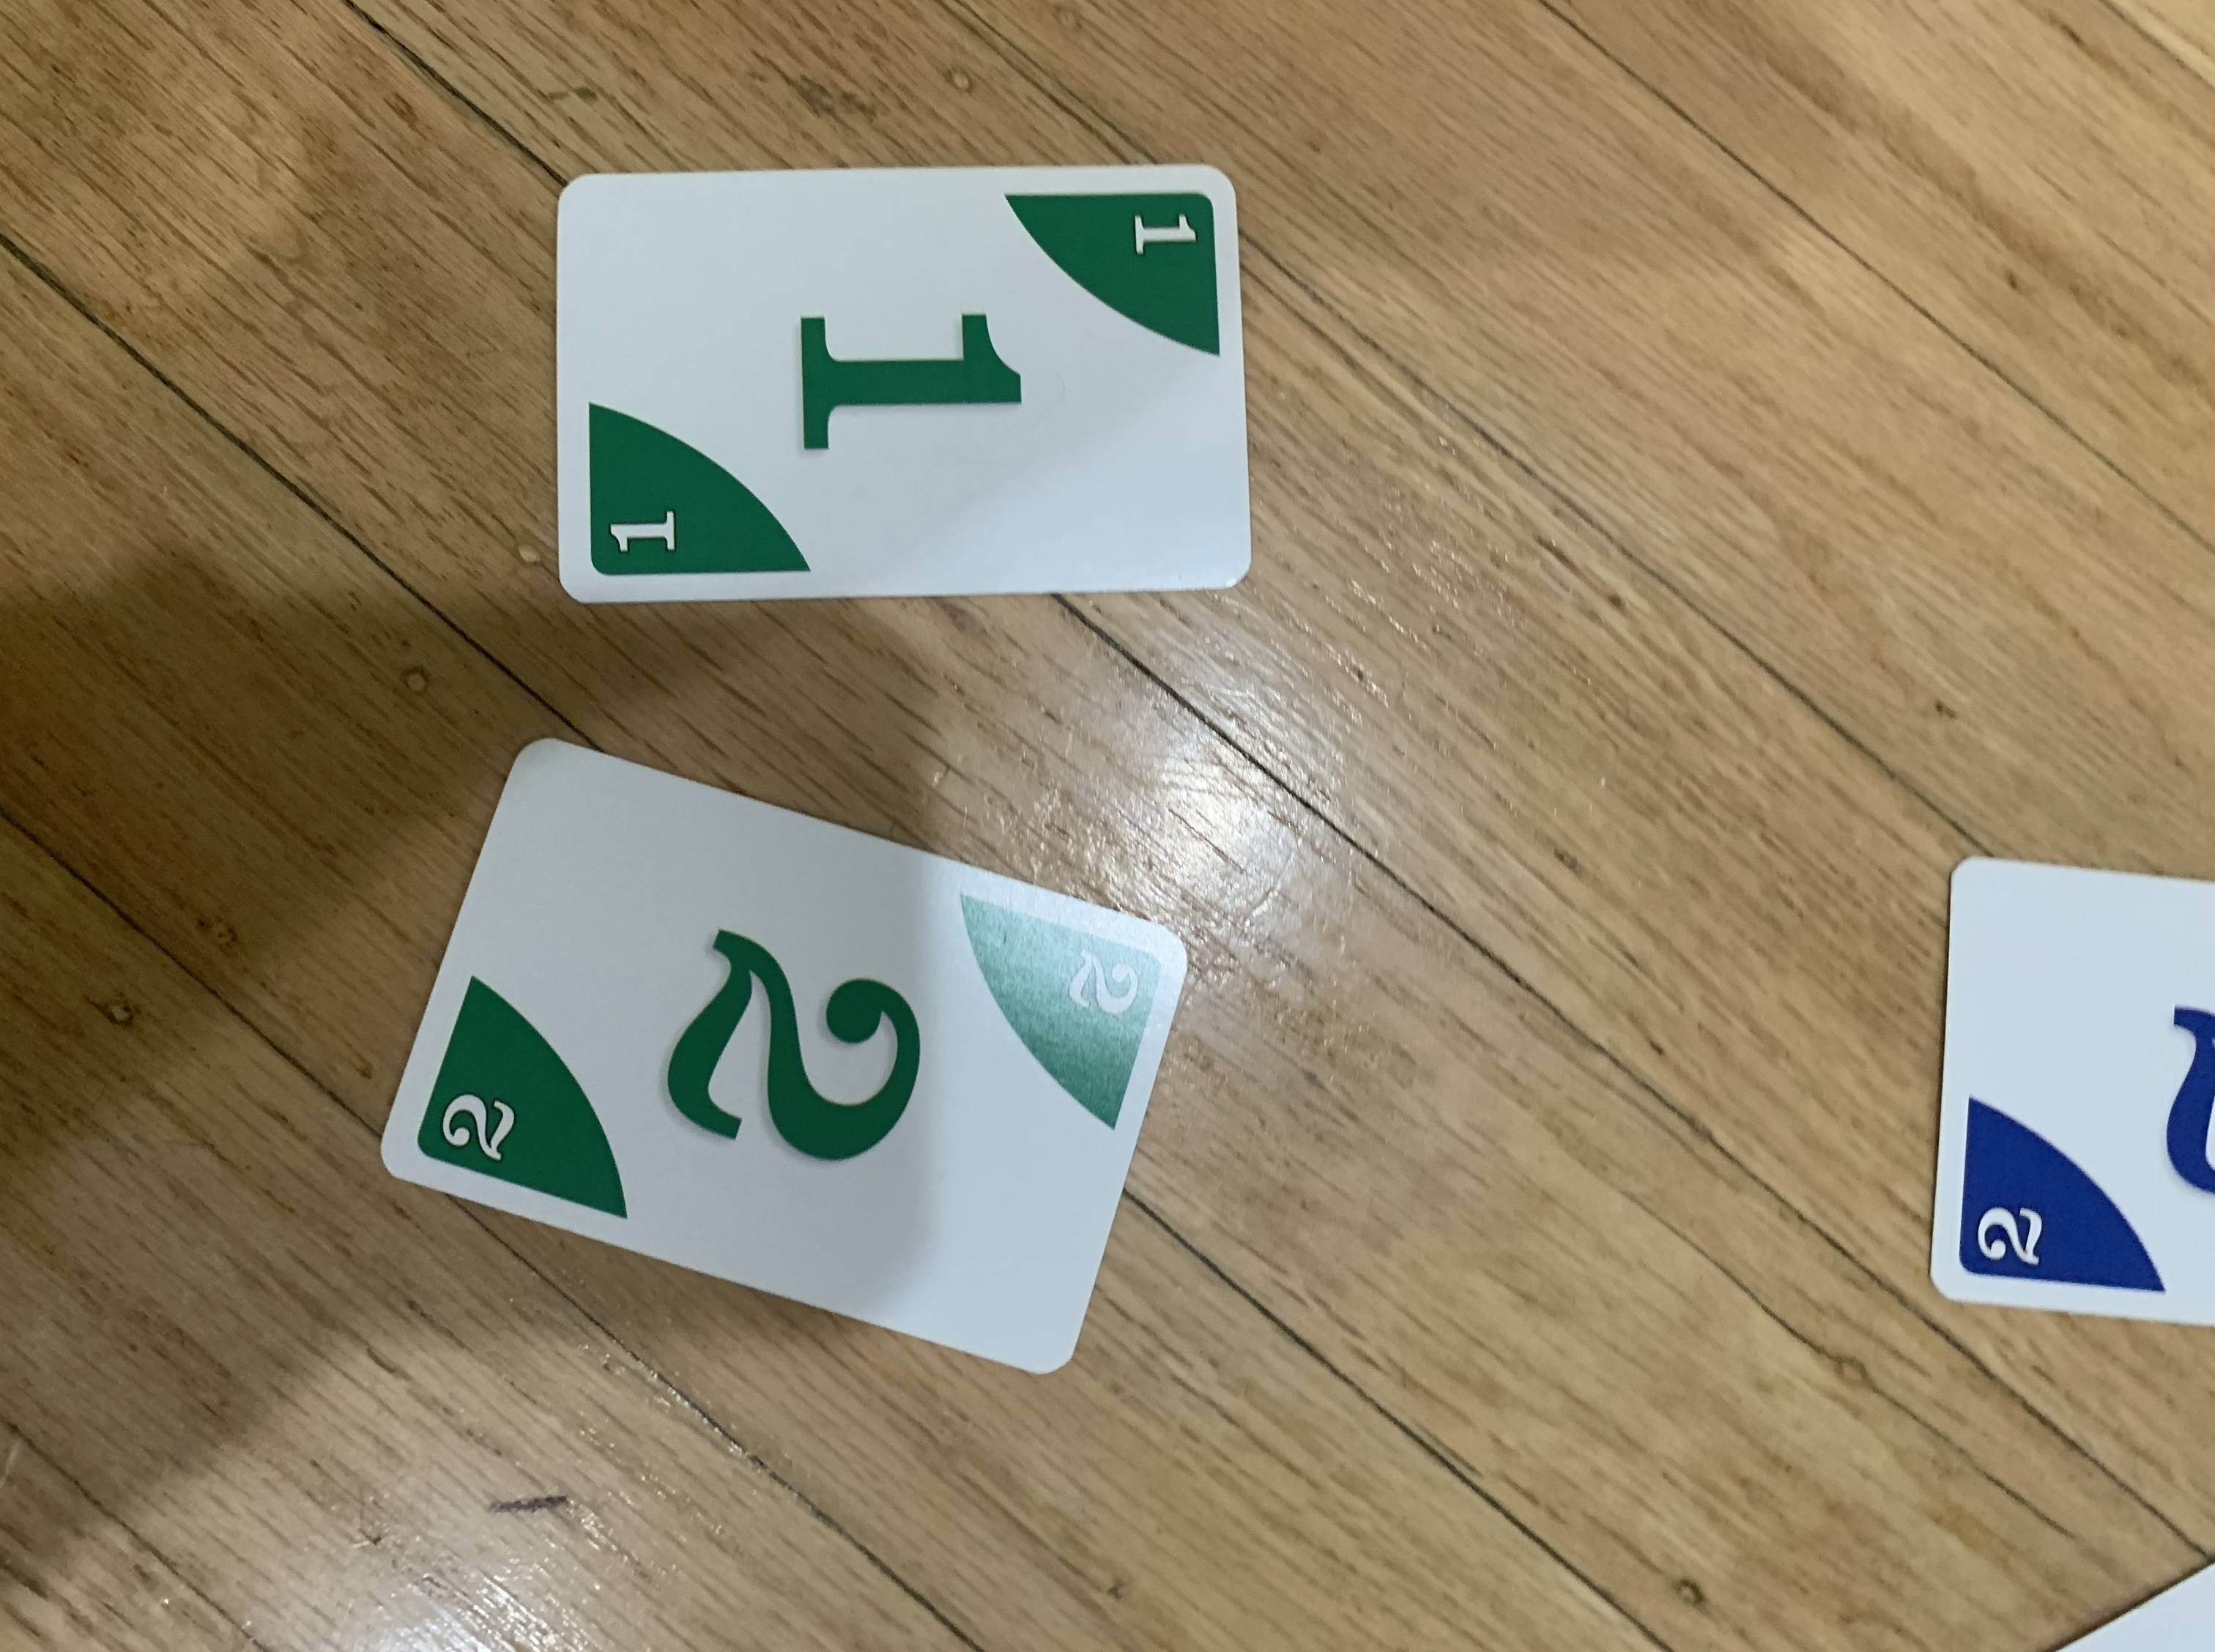one: (535, 151, 1267, 600)
two: (368, 729, 1203, 1404)
